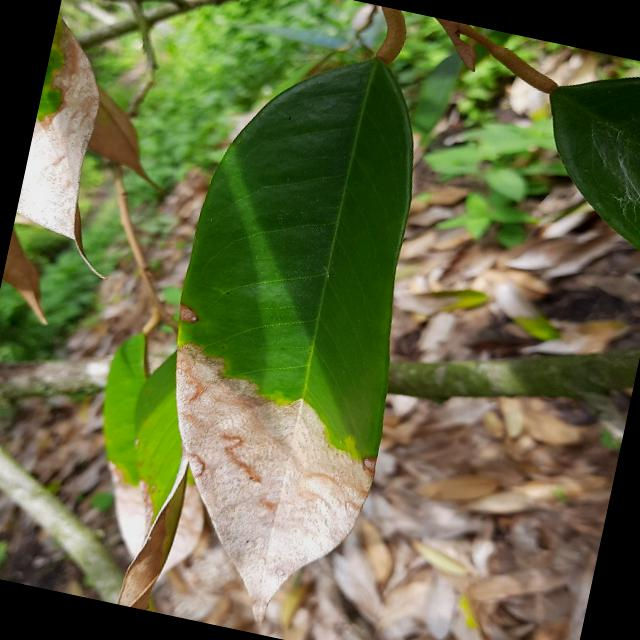Leaf Blight: (107, 12, 473, 639)
